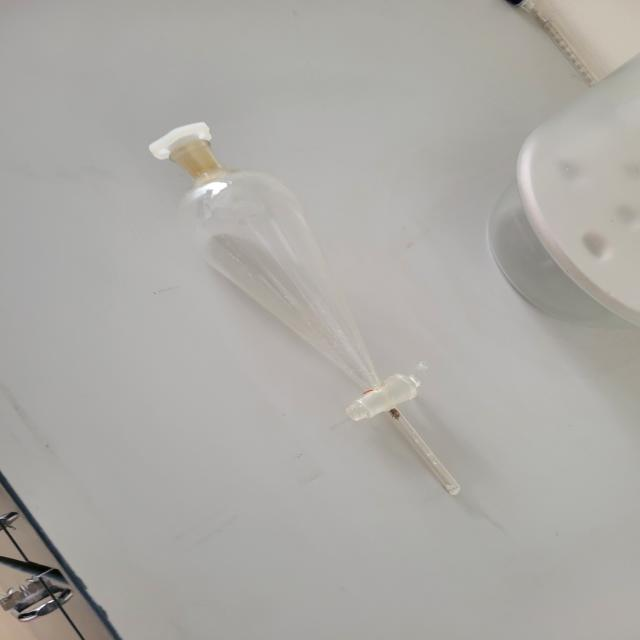Separating_Funnel: (113, 85, 507, 522)
